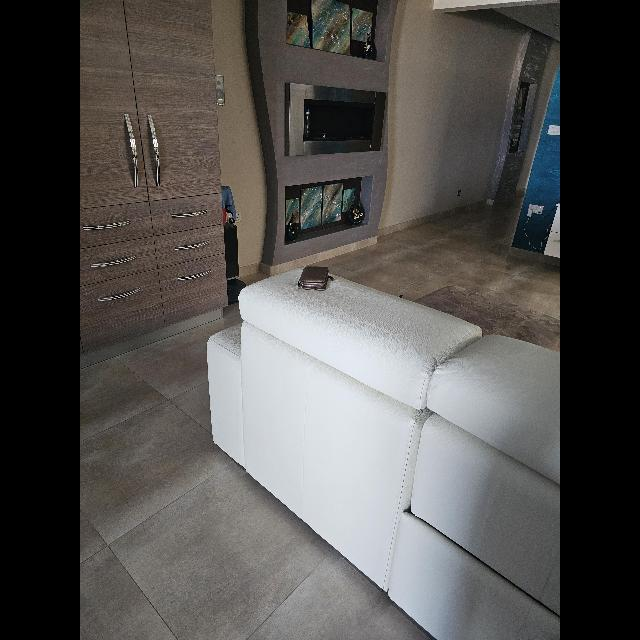Wallet: (297, 266, 333, 292)
